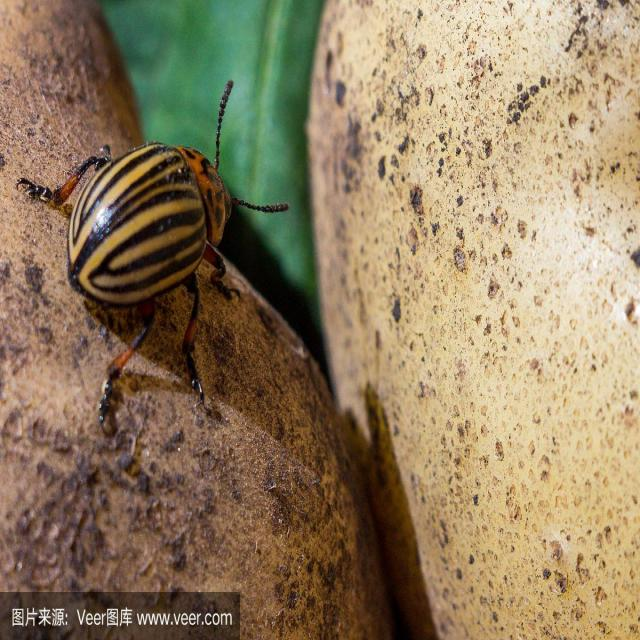ShuCaiHuaBanChong-Grown-: (54, 129, 252, 333)
